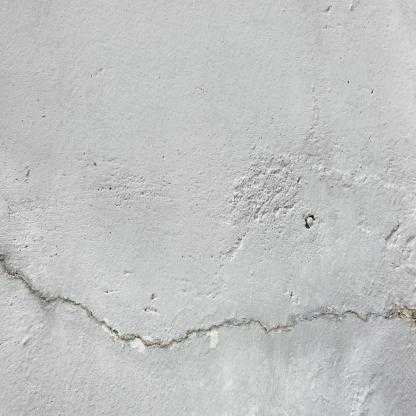crack: (1, 257, 413, 347)
